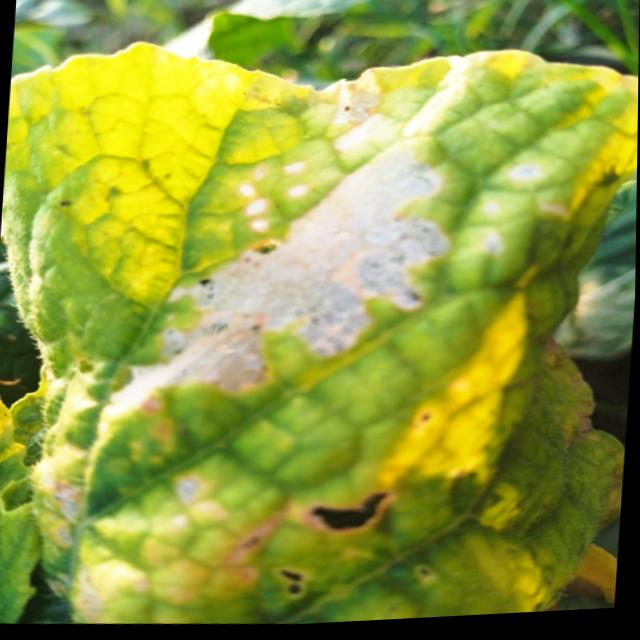Anthracnose: (306, 474, 394, 538), (275, 559, 308, 600)
